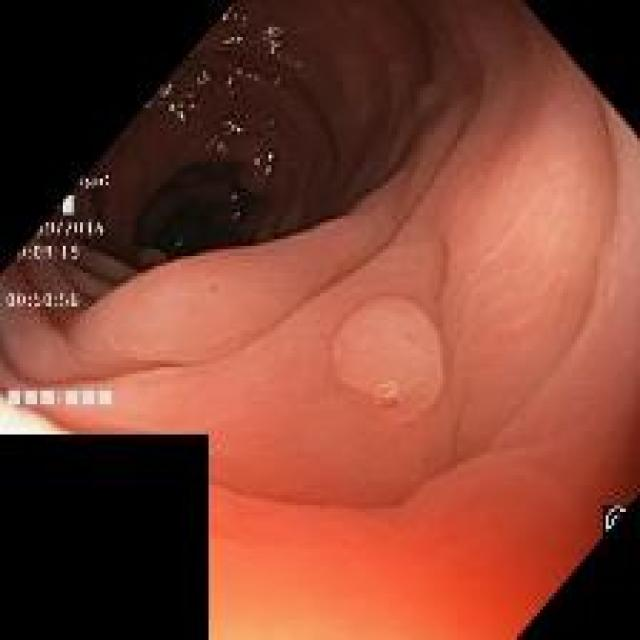Polyps: (332, 299, 442, 423)
